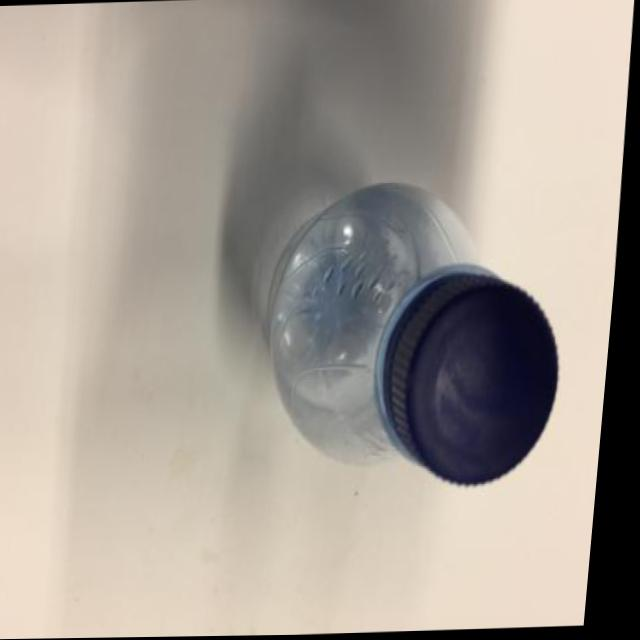plastic: (185, 98, 600, 571)
